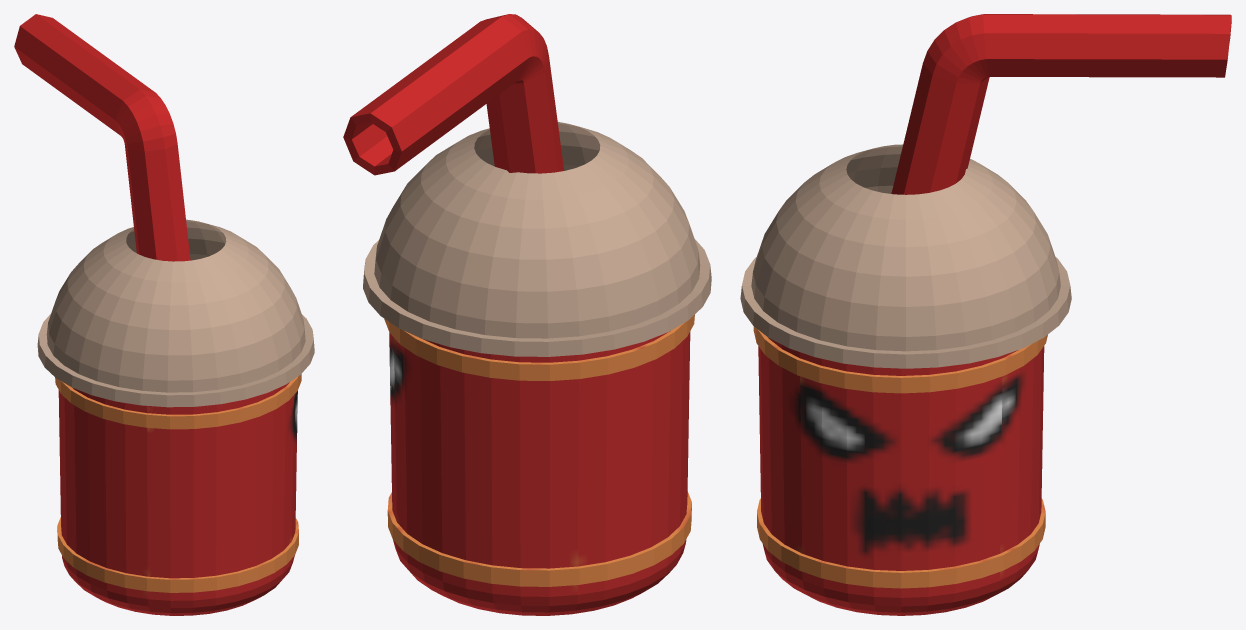
File: NORMAL_F.fbx
3 views of the same model, side by side, from view 1: azimuth 30°, elevation 25°; view 2: azimuth 150°, elevation 25°; view 3: azimuth 270°, elevation 25° (orthographic). The views are drawn at different scales.
Visible parts, largest first — view 1: Normal_Shooter_Lid; view 2: Normal_Shooter_Lid; view 3: Normal_Shooter_Lid.
Part boxes in pixels (bbox=[...]): Normal_Shooter_Lid: bbox=[14, 14, 314, 615]; Normal_Shooter_Lid: bbox=[343, 14, 711, 615]; Normal_Shooter_Lid: bbox=[740, 14, 1231, 615].
Size of the model in its own units: 1849 by 3386 by 2740.
Materials: 1 (1 with a texture image).
